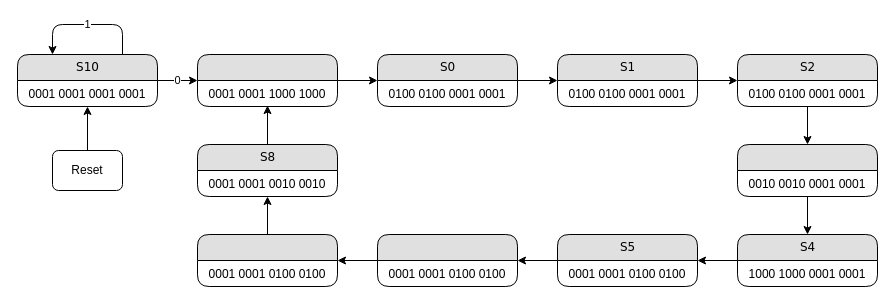
This 895x307 diagram has some shape labels left out. The shapes that lost their labels are listed below. From the top down, each one's box as (x1, y1, x2, y2) in pixels, then its label:
(196, 54, 338, 106): S9
(736, 144, 878, 196): S3
(196, 234, 338, 286): S7
(376, 234, 518, 286): S6
